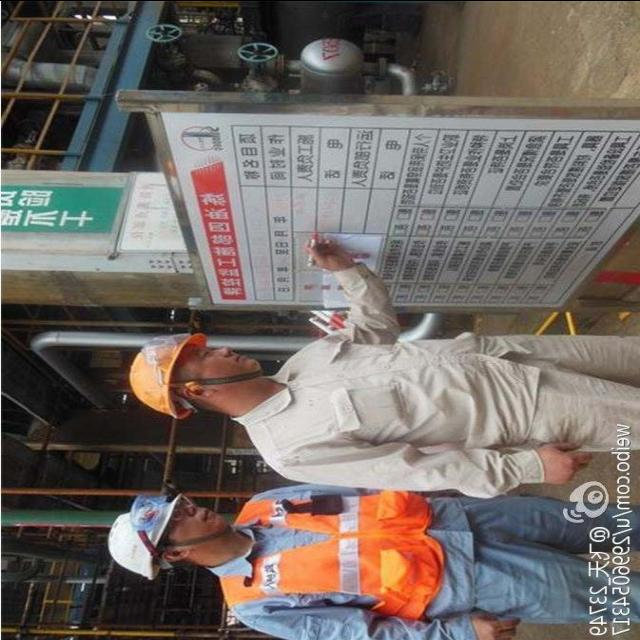helmet: (101, 491, 183, 598), (120, 328, 202, 427)
jacket: (210, 480, 448, 636)
